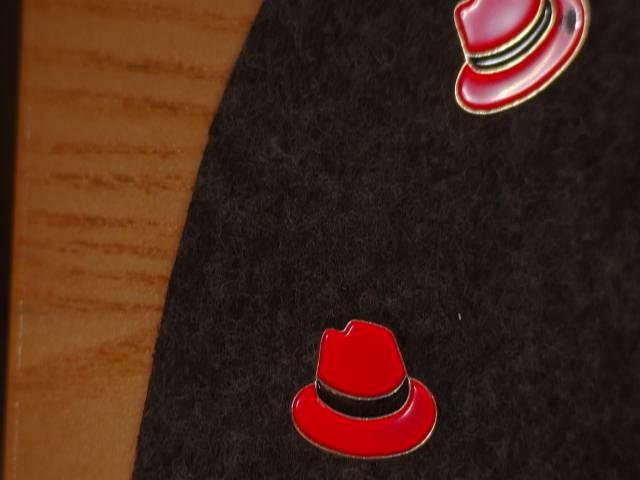Red-Hat: (278, 296, 468, 480), (427, 0, 600, 127)
Scratch: (551, 4, 587, 42)
